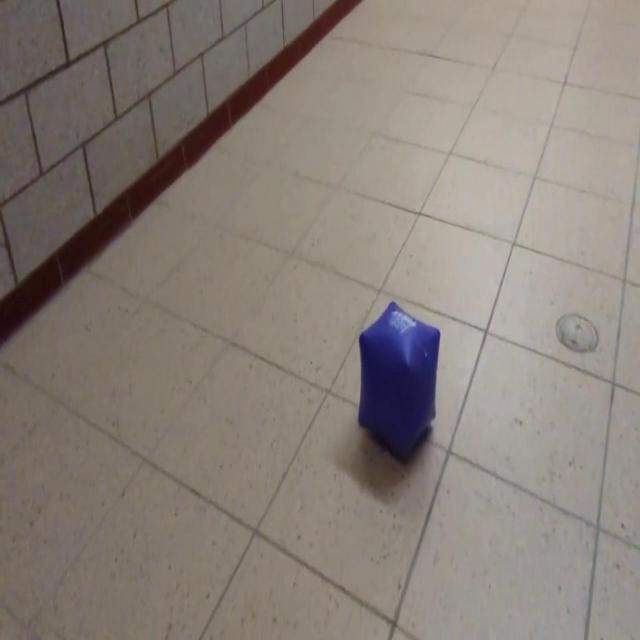frc_cube: (352, 298, 444, 461)
